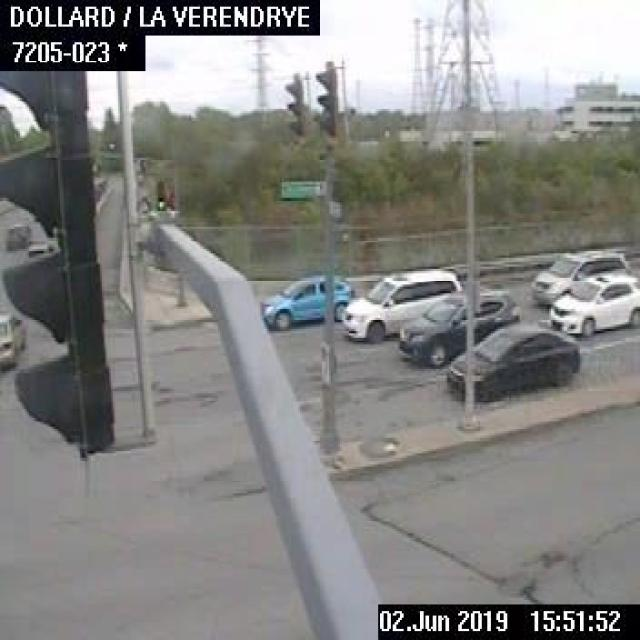vehicle: (442, 320, 581, 401), (398, 282, 518, 368), (338, 264, 466, 343), (528, 244, 630, 307), (545, 267, 638, 334), (262, 273, 356, 329), (0, 307, 27, 369), (0, 218, 31, 244), (26, 239, 54, 258), (91, 171, 107, 202)
